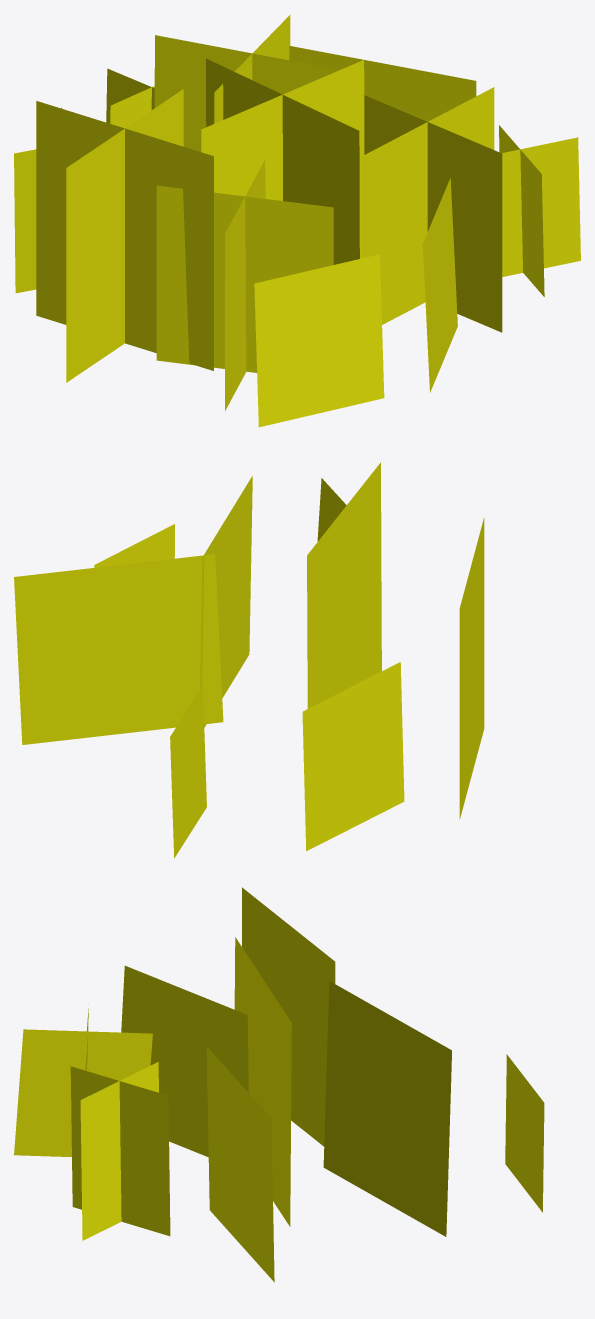
File: grass_c.glb
3 renders of one model, top to bottom at view 1: azimuth 30°, elevation 25°; view 2: azimuth 150°, elevation 25°; view 3: azimuth 270°, elevation 25°, orthographic. The views are drawn at different scales.
Visible parts, largest first — view 1: Grass_F_01; view 2: Grass_F_01; view 3: Grass_F_01.
Boxes of the visible parts, x1=… form: Grass_F_01: x1=14, y1=15, x2=580, y2=427; Grass_F_01: x1=14, y1=462, x2=484, y2=858; Grass_F_01: x1=14, y1=887, x2=544, y2=1282.
Bounding box in the file's own units: 1.41 × 0.6157 × 1.5.
